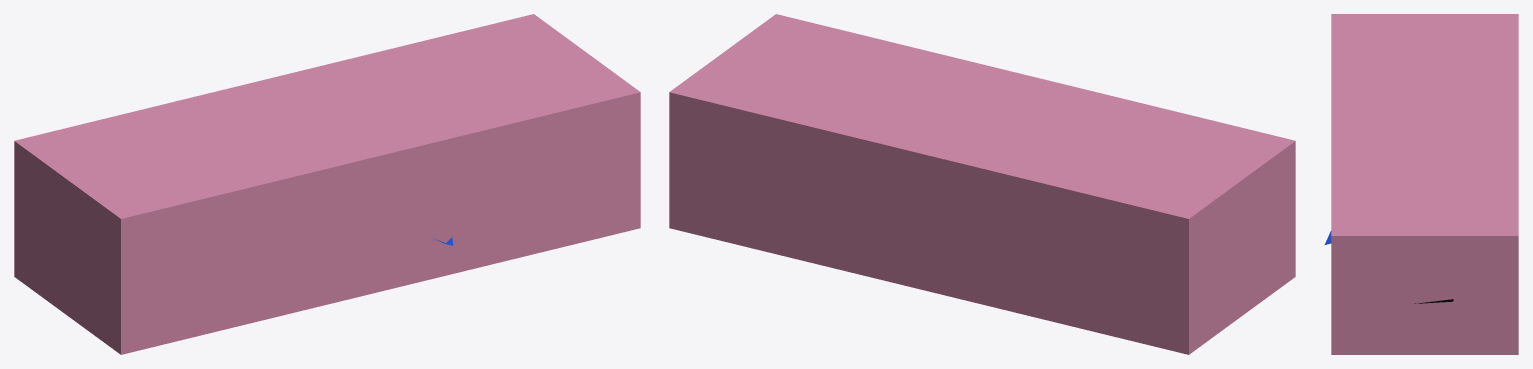
File: vine_side_1m.dae
The picture shows the model from 3 angles, left to right: view 1: azimuth 30°, elevation 25°; view 2: azimuth 150°, elevation 25°; view 3: azimuth 270°, elevation 25°; orthographic projection. The views are drawn at different scales.
Visible parts, largest first — view 1: Untitled; view 2: Untitled; view 3: Untitled.
Part boxes in pixels (x1=…): Untitled: x1=14, y1=14, x2=640, y2=354; Untitled: x1=669, y1=14, x2=1295, y2=354; Untitled: x1=1331, y1=14, x2=1518, y2=354.
Bounding box in the file's own units: 1.04 × 0.3808 × 0.2575.
